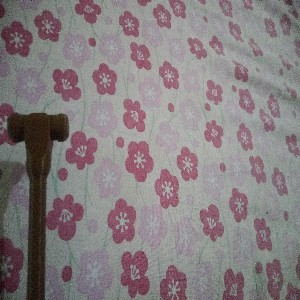palu: (5, 110, 70, 300)
